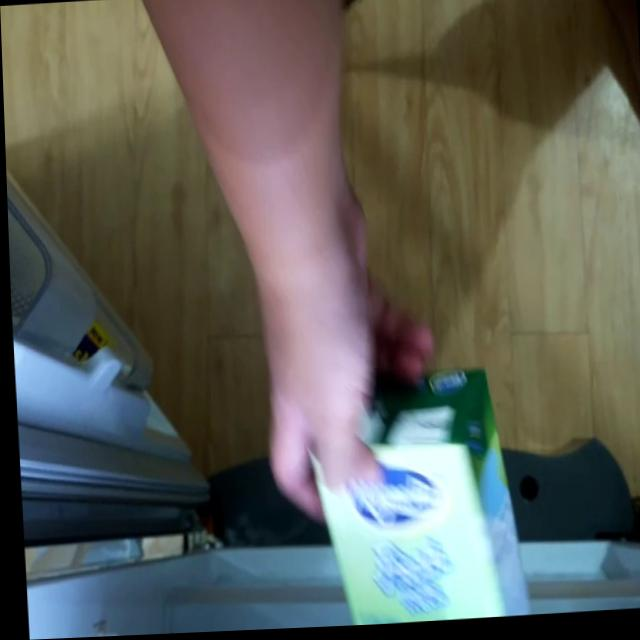milk: (300, 366, 525, 630)
